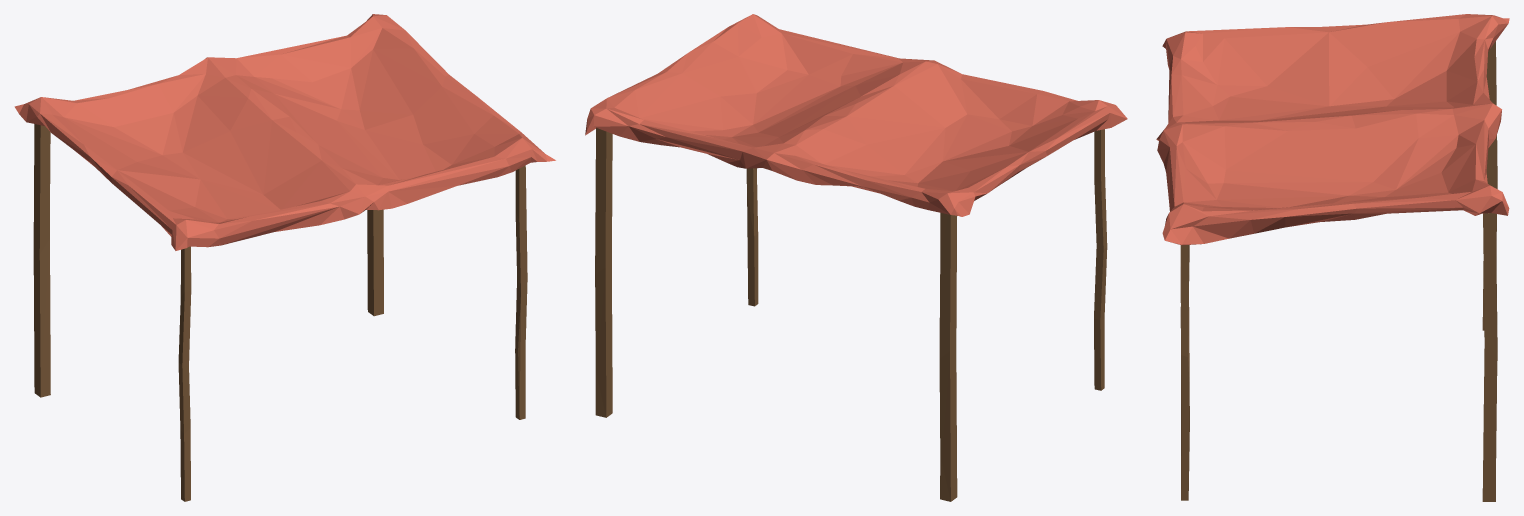
Rendered from Market_Roof_01.fbx.
3 renders of one model, left to right at view 1: azimuth 30°, elevation 25°; view 2: azimuth 150°, elevation 25°; view 3: azimuth 270°, elevation 25°, orthographic. The views are drawn at different scales.
Parts seen in each view (by area): view 1: Market_Roof_01; view 2: Market_Roof_01; view 3: Market_Roof_01.
Boxes of the visible parts, x1,y1,x2,y2 form: Market_Roof_01: (14,14,555,501); Market_Roof_01: (585,14,1127,501); Market_Roof_01: (1156,14,1509,501).
Bounding box in the file's own units: 2.72 × 2.03 × 2.08.
